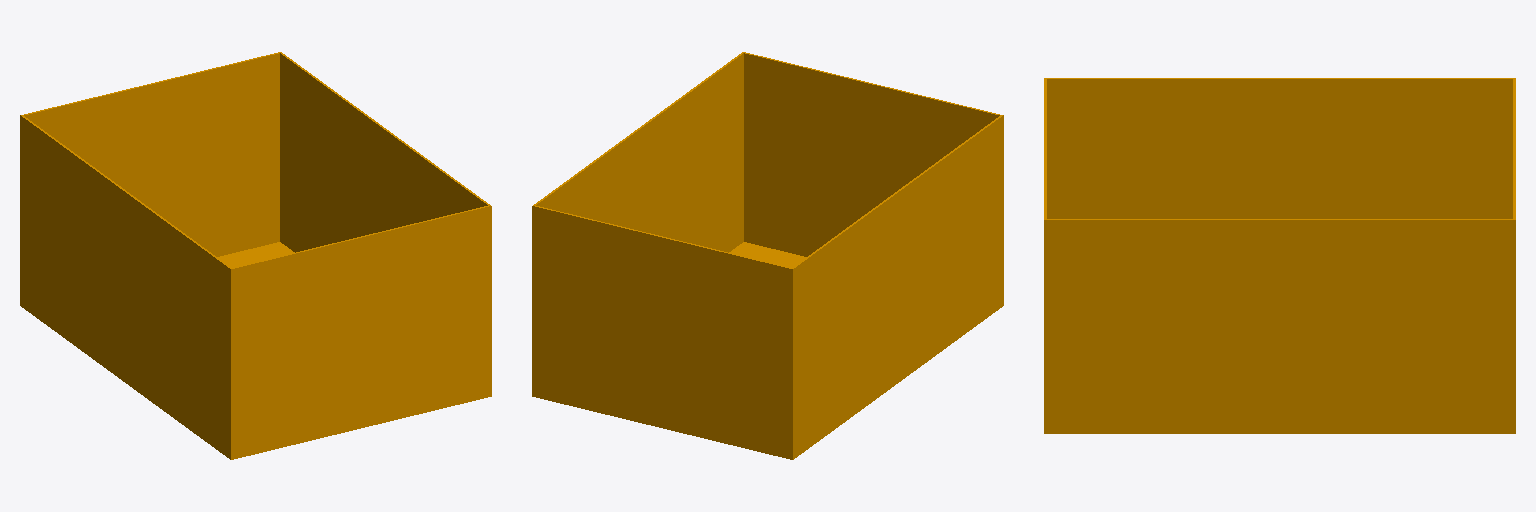
URDF robot description (cardboard):
<?xml version="1.0" ?>
<robot name="cardboard">

<material name="silver">
  <color rgba="0.9 0.9 0.9 1.000"/>
</material>

<link name="base_link">
  <inertial>
    <origin xyz="-1.800566012109954e-16 7.562377250861806e-16 0.07292407288622794" rpy="0 0 0"/>
    <mass value="7.9303211999999705"/>
    <inertia ixx="0.16190189155507878" iyy="0.10630935963508006" izz="0.2179258215431983" ixy="9.138602763414372e-16" iyz="3.116850499389211e-16" ixz="4.4373523968372045e-17"/>
  </inertial>
  <visual>
    <origin xyz="0 0 0" rpy="0 0 0"/>
    <geometry>
      <mesh filename="meshes/cardboardbox.obj" scale="0.01 0.01 0.01"/>
    </geometry>
    <material name="silver"/>
    <material/>
  </visual>
  <collision>
    <origin xyz="0 0 0" rpy="0 0 0"/>
    <geometry>
      <mesh filename="meshes/decomp.obj" scale="0.01 0.01 0.01"/>
    </geometry>
  </collision>
</link>

</robot>

--- Facts derived from the render (not from the file) ---
3 views of the same robot in one strip: view 1: azimuth 30°, elevation 25°; view 2: azimuth 150°, elevation 25°; view 3: azimuth 270°, elevation 25° (orthographic).
Model cardboard with 1 links and 0 joints (none), rooted at base_link, posed every joint at zero.
Links seen in each view (by area): view 1: base_link; view 2: base_link; view 3: base_link.
Link boxes in pixels (left/top/right/bottom): base_link: left=20, top=52, right=491, bottom=459; base_link: left=532, top=52, right=1003, bottom=459; base_link: left=1044, top=78, right=1515, bottom=433.
Size in the robot's own frame: 0.25 by 0.35 by 0.175 metres.
Meshes: 1 distinct files referenced, 1 mesh visuals loaded (1 OBJ).